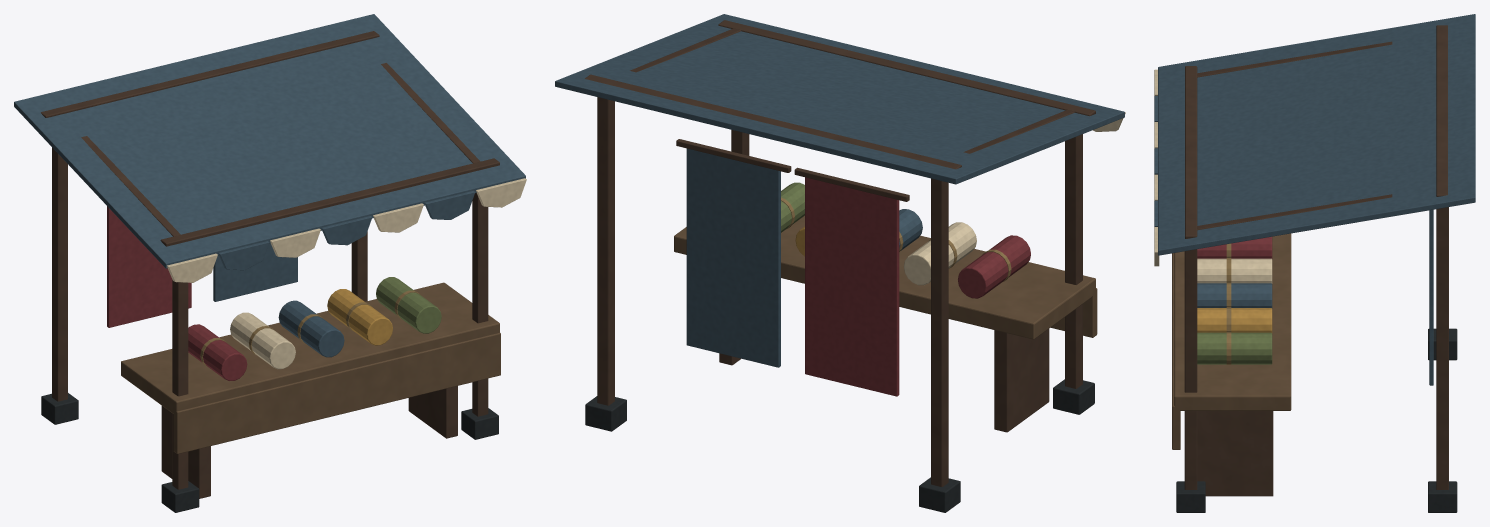
Rendered from Cloth_Stall.fbx.
3 renders of one model, left to right at view 1: azimuth 30°, elevation 25°; view 2: azimuth 150°, elevation 25°; view 3: azimuth 270°, elevation 25°, orthographic. The views are drawn at different scales.
Visible parts, largest first — view 1: Cloth_Stall.001; view 2: Cloth_Stall.001; view 3: Cloth_Stall.001.
Part boxes in pixels (x1,y1,x2,y2): Cloth_Stall.001: [14, 14, 526, 512]; Cloth_Stall.001: [555, 14, 1125, 512]; Cloth_Stall.001: [1154, 14, 1475, 512].
Bounding box in the file's own units: 3.56 × 2.94 × 2.63.
